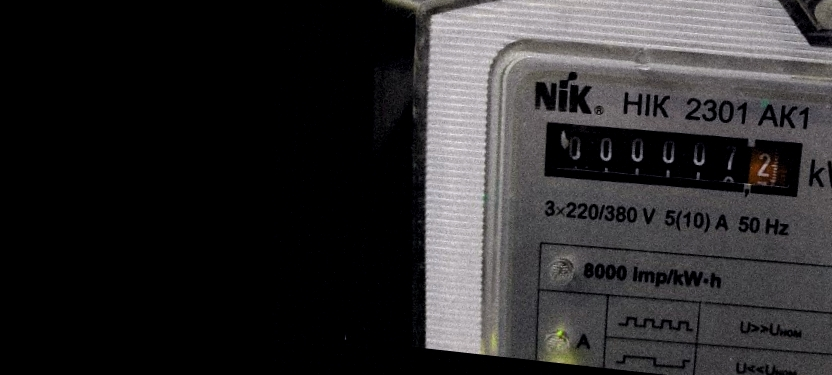0: (565, 132, 585, 161), (659, 136, 679, 165), (628, 134, 647, 164), (597, 134, 616, 162), (691, 139, 709, 168)
2: (755, 151, 774, 179)
7: (722, 141, 740, 173)
screen: (530, 108, 816, 210)
